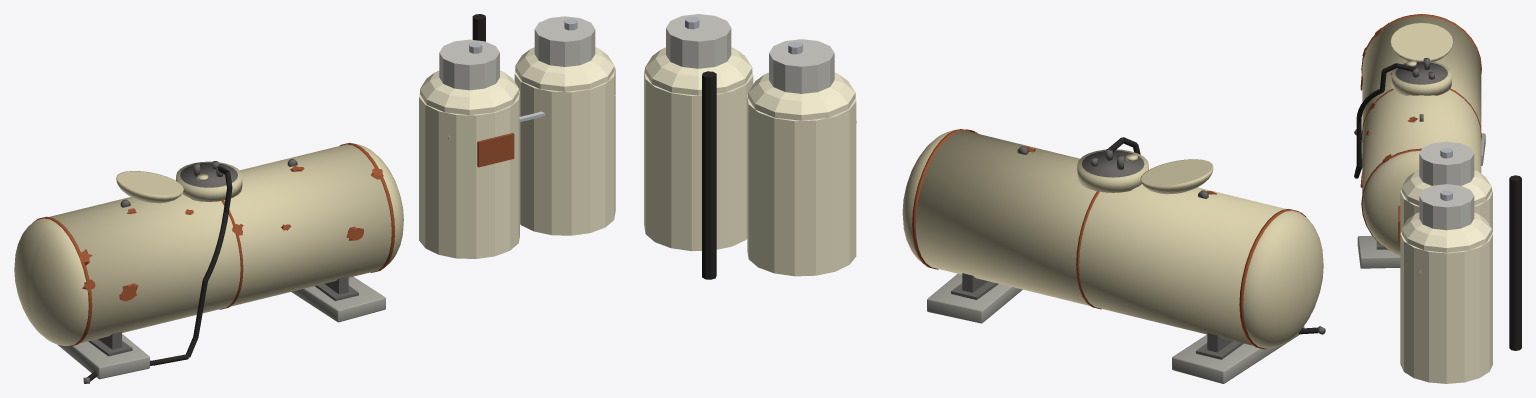
The model's file is trailer_propane.glb.
3 renders of one model, left to right at view 1: azimuth 30°, elevation 25°; view 2: azimuth 150°, elevation 25°; view 3: azimuth 270°, elevation 25°, orthographic. The views are drawn at different scales.
Parts seen in each view (by area): view 1: trailer_propane; view 2: trailer_propane; view 3: trailer_propane.
Part boxes in pixels (x1,y1,x2,y2): trailer_propane: [14, 14, 615, 383]; trailer_propane: [644, 14, 1325, 383]; trailer_propane: [1354, 14, 1521, 383].
Size of the model in its own units: 4.98 by 1.58 by 1.34.
